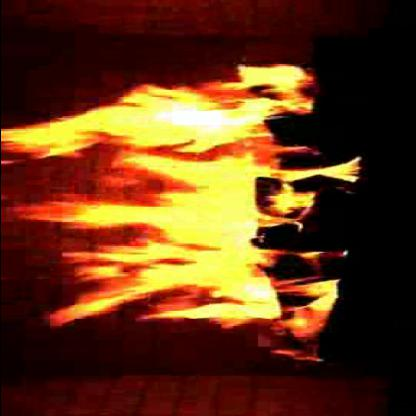Fire: (1, 97, 251, 341)
